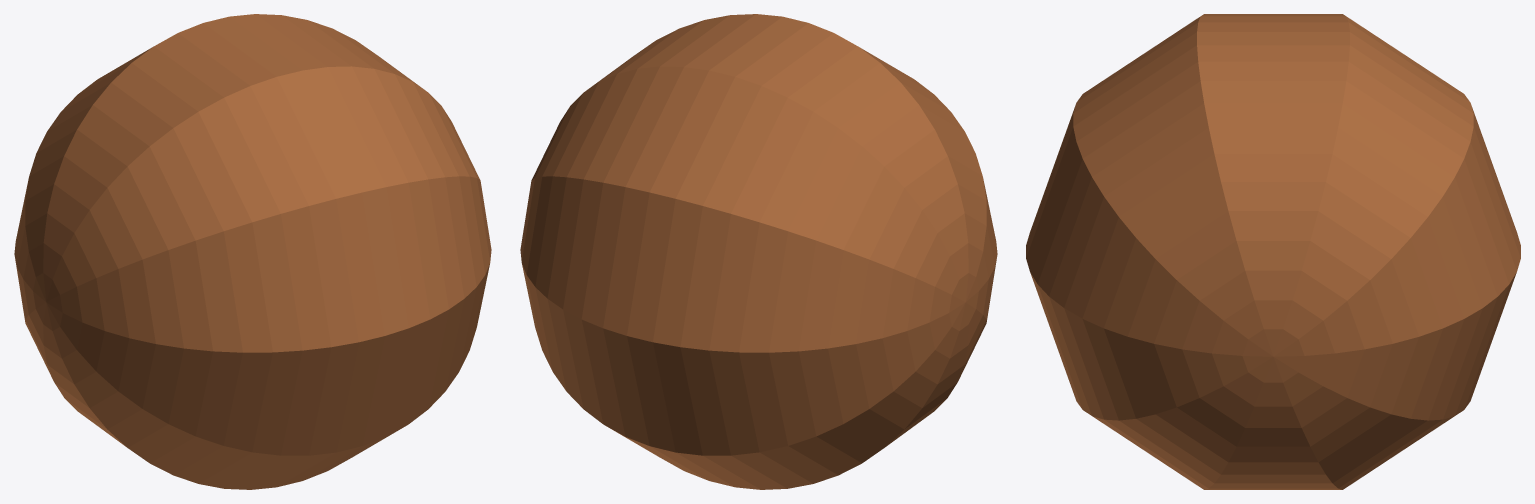
The model's file is tatu_cilíndrico (2).fbx.
3 views of the same model, side by side, from view 1: azimuth 30°, elevation 25°; view 2: azimuth 150°, elevation 25°; view 3: azimuth 270°, elevation 25° (orthographic). The views are drawn at different scales.
Visible parts, largest first — view 1: Sphere.002; view 2: Sphere.002; view 3: Sphere.002.
Part boxes in pixels (x1,y1,x2,y2): Sphere.002: (14, 14, 491, 489); Sphere.002: (520, 14, 997, 489); Sphere.002: (1026, 14, 1520, 489).
Bounding box in the file's own units: 200 × 190 × 200.
